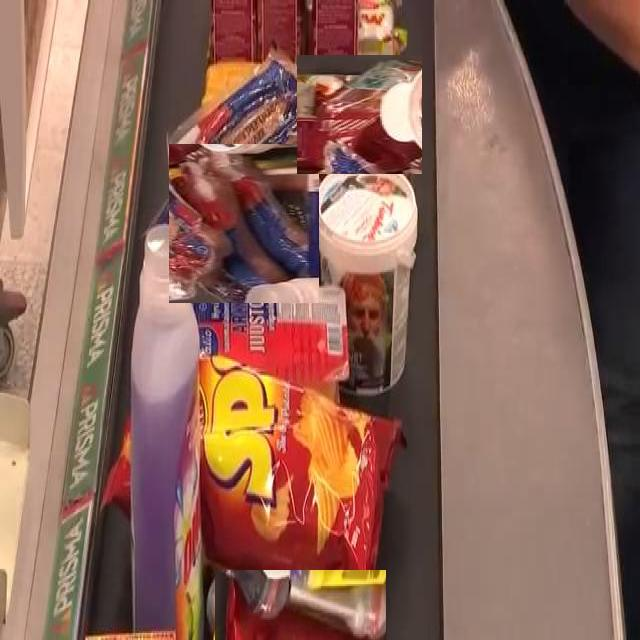food-box: (167, 146, 321, 300), (172, 62, 338, 198), (298, 53, 421, 176)
utility-box: (136, 217, 206, 640), (316, 166, 418, 403), (214, 569, 386, 640)
